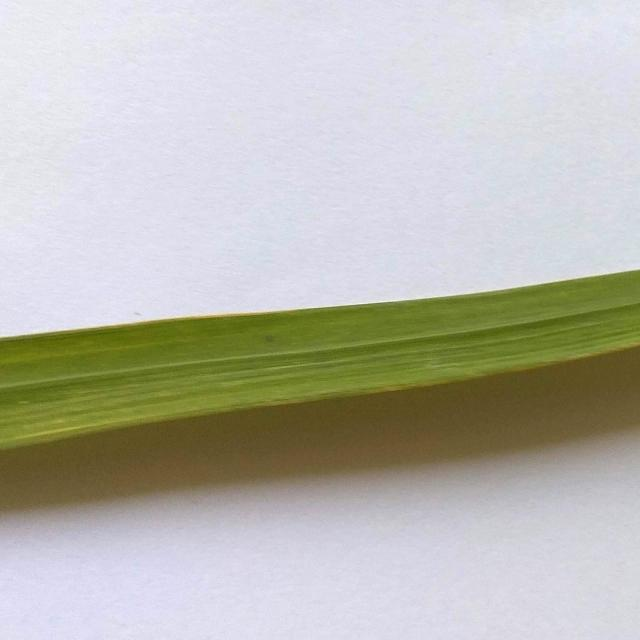healthy: (2, 237, 640, 488)
